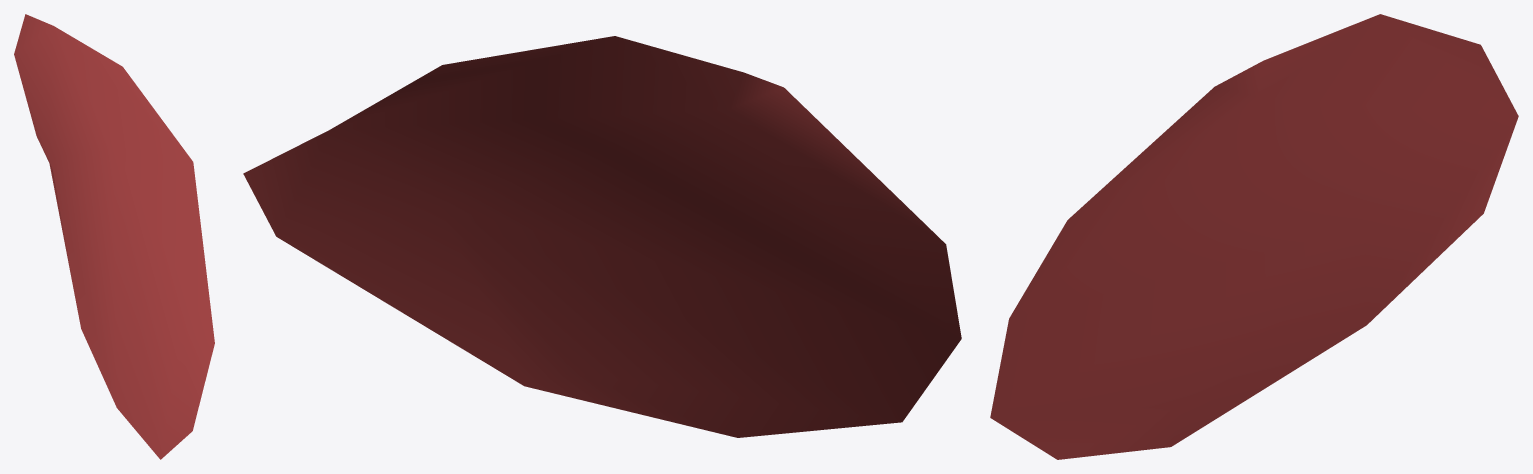
Rendered from extensor-digitorum-e7r.glb.
3 views of the same model, side by side, from view 1: azimuth 30°, elevation 25°; view 2: azimuth 150°, elevation 25°; view 3: azimuth 270°, elevation 25° (orthographic). The views are drawn at different scales.
Parts seen in each view (by area): view 1: Extensor digitorum.e7r; view 2: Extensor digitorum.e7r; view 3: Extensor digitorum.e7r.
Boxes of the visible parts, x1,y1,x2,y2 form: Extensor digitorum.e7r: (14, 14, 214, 459); Extensor digitorum.e7r: (243, 36, 961, 437); Extensor digitorum.e7r: (990, 14, 1518, 459).
Size of the model in its own units: 0.00426 by 0.00554 by 0.00649.
